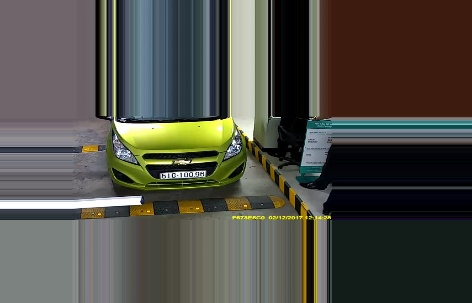plate: (160, 169, 208, 180)
